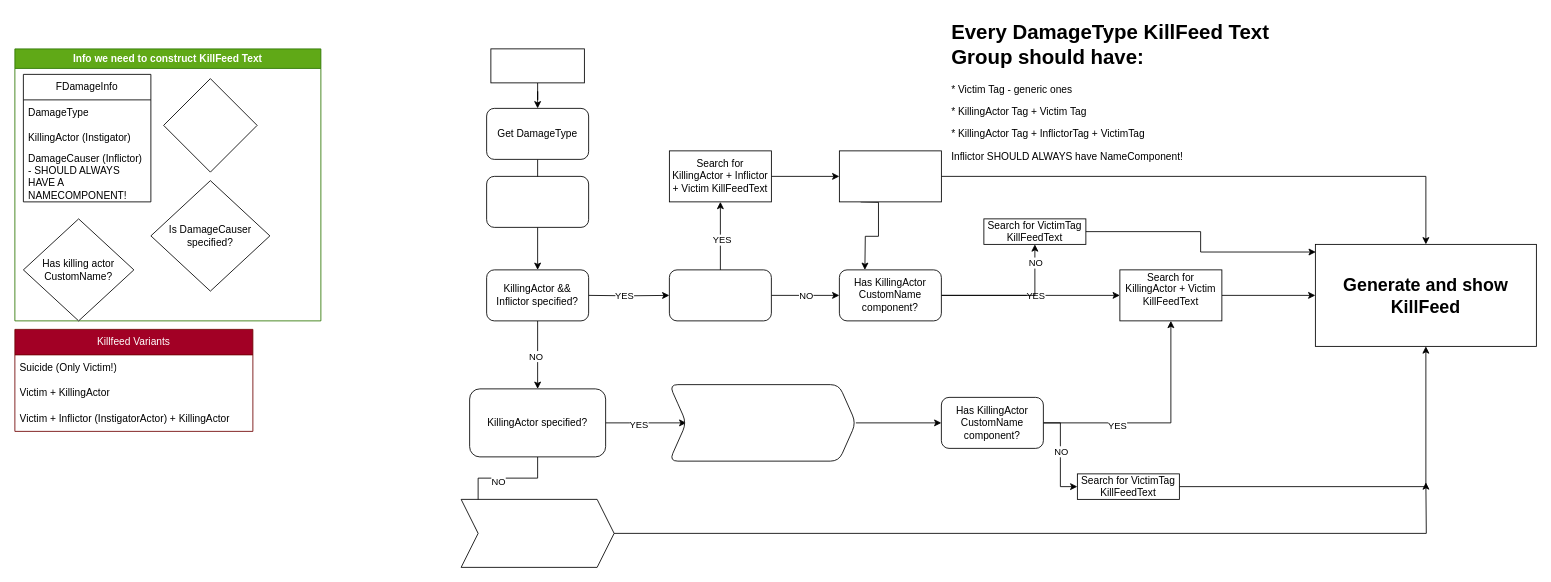
Some shapes in this 1551 by 582 pixel diagram are drawn without their labels. The shapes that lost their labels are listed below. From the top down, each one's centre as x and y in pixels, then its label:
At [537,65]: "Player Dies".
At [210,125]: "IsSuicide? (it dosen't matter at all)".
At [890,176]: "Replace the tags".
At [537,201]: "Look for specific DamageType KillFeed StringTables".
At [720,295]: "Is KillingActor a player?".
At [762,422]: "Look for KillFeedText which have KillingActor Tag + Victim Tag".
At [537,533]: "Look for Victim Tag only".
